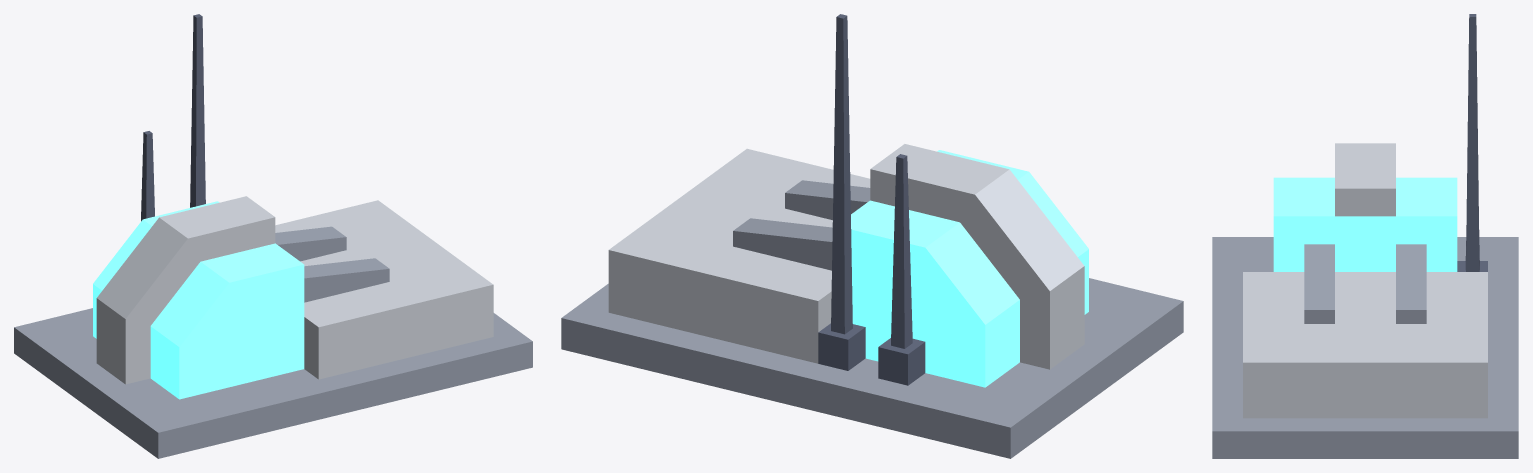
The model's file is machine_wireless.glb.
3 renders of one model, left to right at view 1: azimuth 30°, elevation 25°; view 2: azimuth 150°, elevation 25°; view 3: azimuth 270°, elevation 25°, orthographic. The views are drawn at different scales.
Visible parts, largest first — view 1: machine_wireless; view 2: machine_wireless; view 3: machine_wireless.
Part boxes in pixels (x1,y1,x2,y2): machine_wireless: (14,14,532,458); machine_wireless: (561,14,1183,458); machine_wireless: (1212,14,1518,458).
Size of the model in its own units: 0.75 by 0.6 by 0.5.
